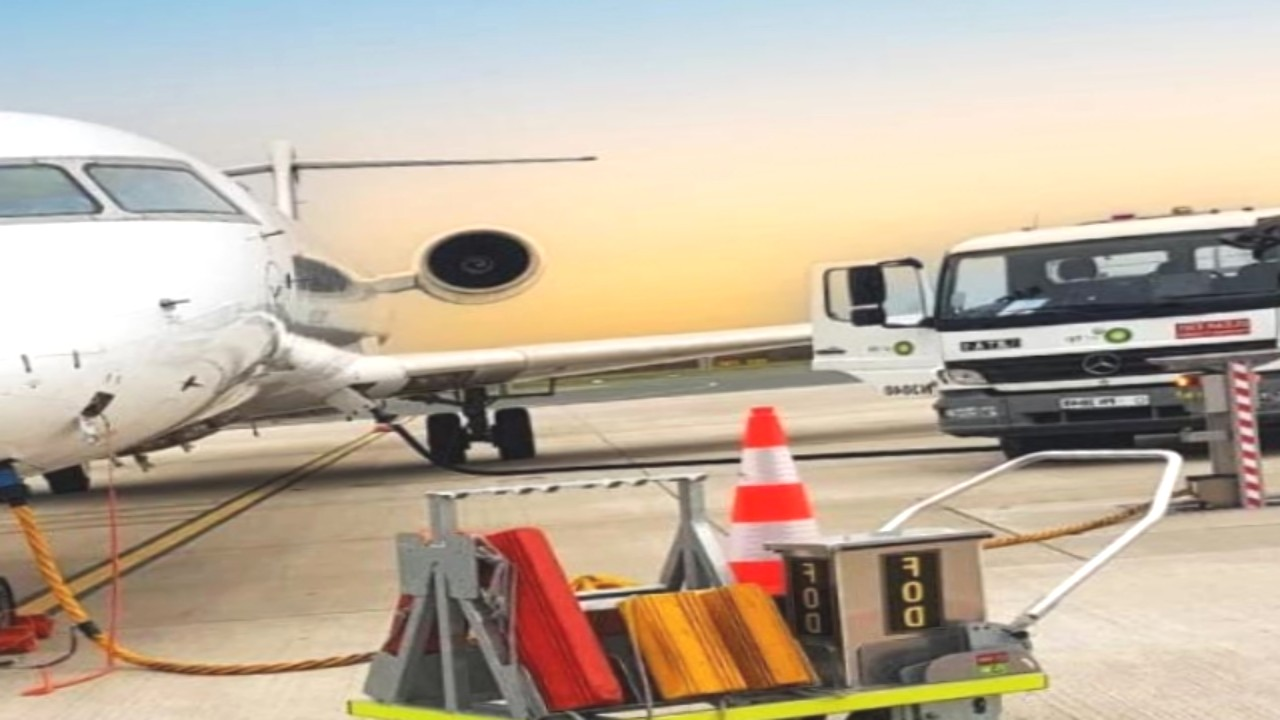chock: (460, 519, 630, 719), (696, 575, 825, 696), (620, 583, 748, 703)
wheel: (996, 425, 1134, 467), (0, 565, 17, 634)
